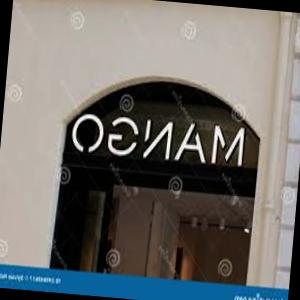mango: (67, 109, 250, 170)
